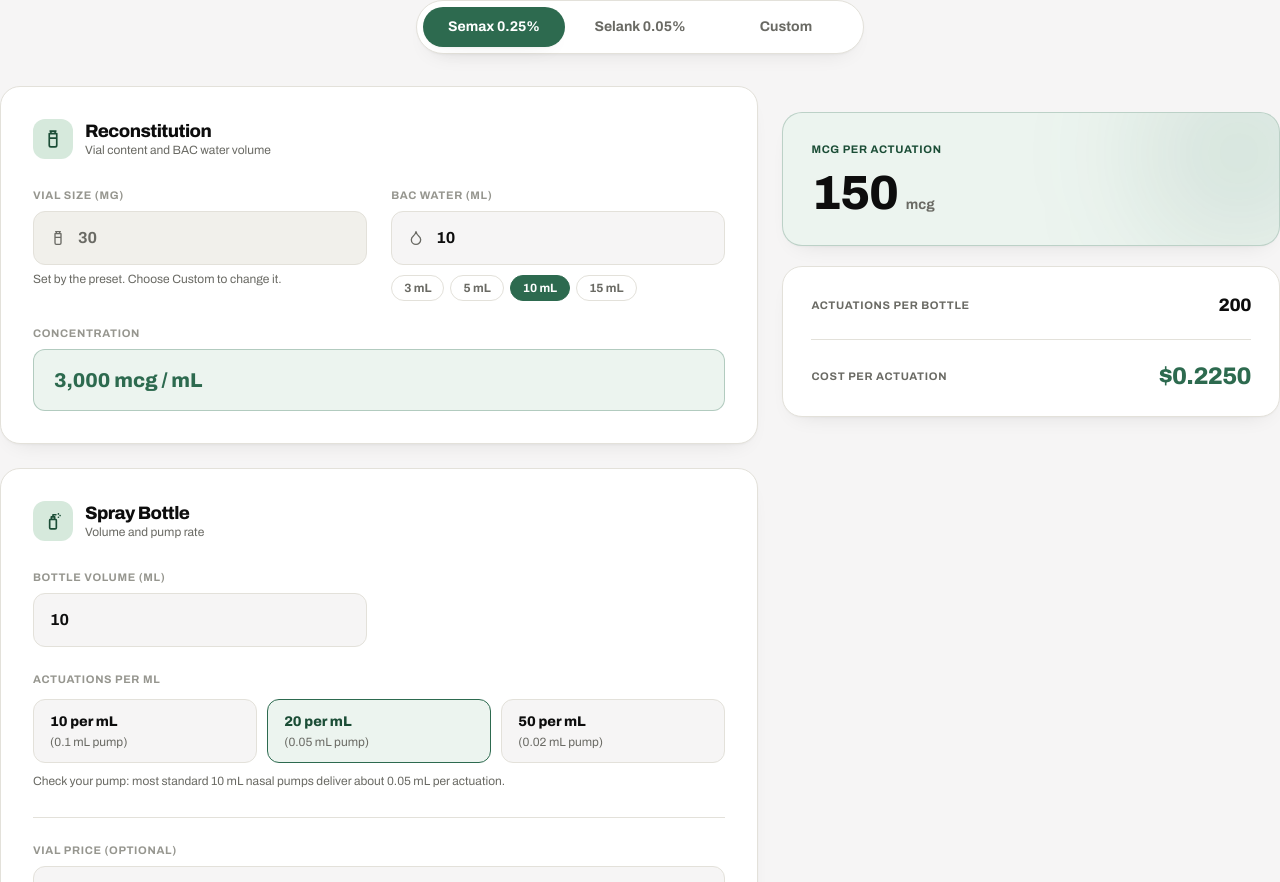
Test case: IntranasalCalculator › Custom loads its own vial and water
The image size is (1280, 882).
Click the button "Custom". click: (786, 27)
box: [715,7,857,47]
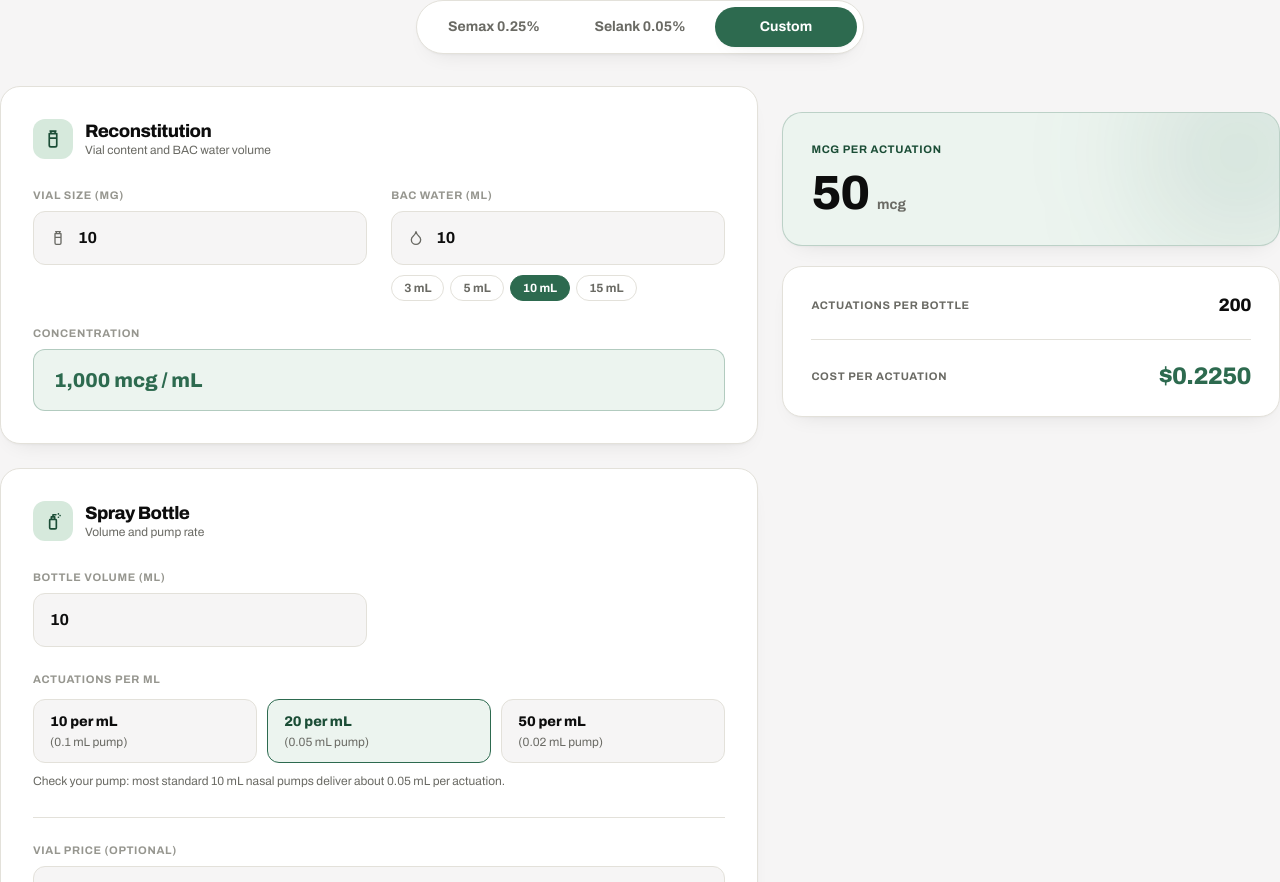
Expected: the text "50" is shown, [811,169,869,217]
Expected: the text "1,000 mcg / mL" is shown, [33,349,725,411]
